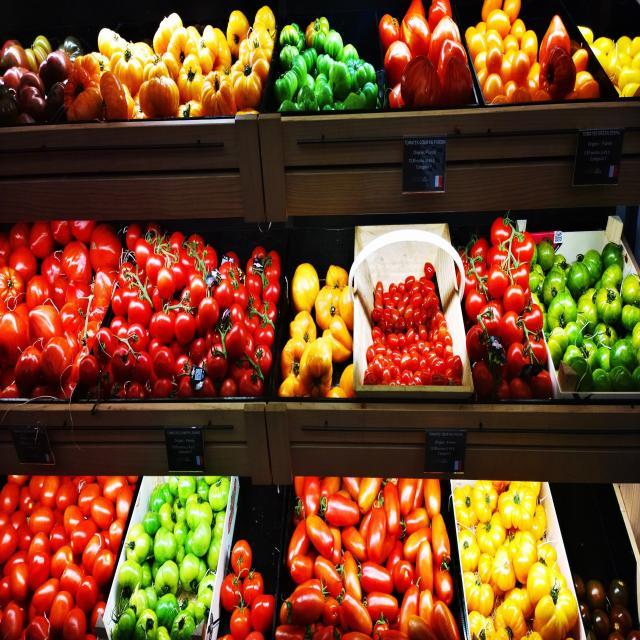Imprecise: (534, 37, 581, 101)
